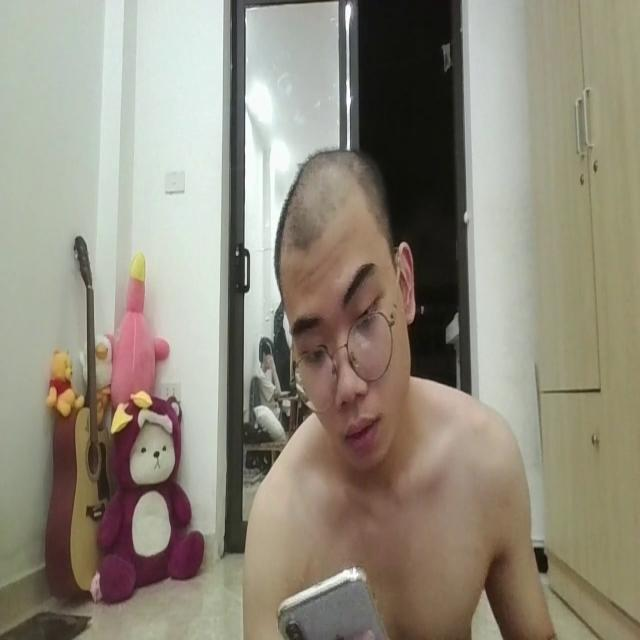extra_person: (254, 306, 292, 475)
student: (228, 133, 564, 640)
